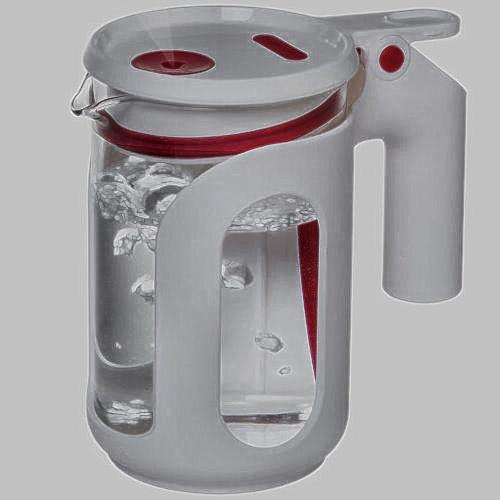kettle: (79, 23, 443, 469)
